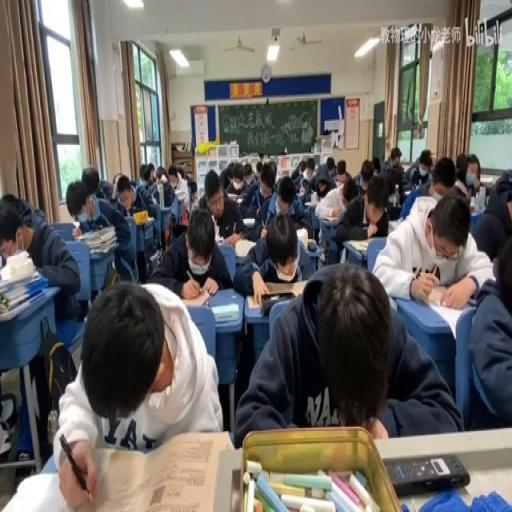calculator: (417, 293, 477, 340), (0, 469, 70, 509), (0, 289, 44, 320), (182, 284, 232, 308), (0, 264, 38, 291), (210, 300, 238, 322), (46, 222, 74, 243), (2, 248, 30, 264), (234, 238, 256, 256), (86, 194, 100, 220), (346, 239, 368, 253), (294, 226, 308, 248), (134, 214, 154, 224), (148, 248, 160, 264), (387, 219, 400, 233), (319, 215, 341, 223), (478, 175, 494, 186), (241, 216, 255, 225), (71, 219, 80, 232), (215, 233, 226, 243), (304, 198, 317, 206), (226, 192, 240, 199), (402, 189, 412, 196), (298, 184, 305, 194)
paper: (233, 260, 453, 445), (54, 277, 219, 512), (0, 189, 82, 461), (371, 186, 492, 308), (148, 204, 230, 298), (233, 206, 314, 296), (72, 172, 137, 282), (334, 170, 388, 258), (470, 168, 511, 260), (298, 158, 326, 206), (429, 155, 455, 202), (406, 145, 434, 188), (452, 154, 477, 202), (149, 165, 176, 206), (398, 183, 422, 219), (354, 155, 376, 191), (132, 183, 154, 212), (80, 165, 99, 196), (334, 159, 350, 191), (386, 168, 402, 199), (219, 160, 235, 190), (186, 176, 197, 206), (0, 192, 18, 209), (290, 158, 302, 182), (242, 162, 254, 184), (267, 160, 277, 184), (325, 156, 335, 180), (390, 148, 402, 165), (372, 155, 381, 174), (254, 159, 262, 178), (176, 164, 186, 179), (300, 175, 309, 188), (140, 164, 146, 179), (428, 154, 435, 165), (258, 152, 264, 161)
person: (386, 452, 470, 494), (258, 292, 293, 316), (306, 239, 316, 252), (238, 228, 248, 238)
